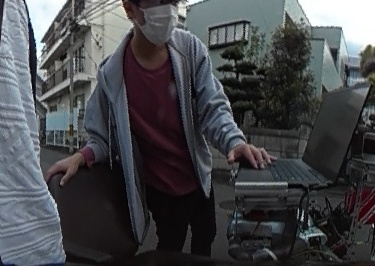person: (64, 0, 268, 266)
